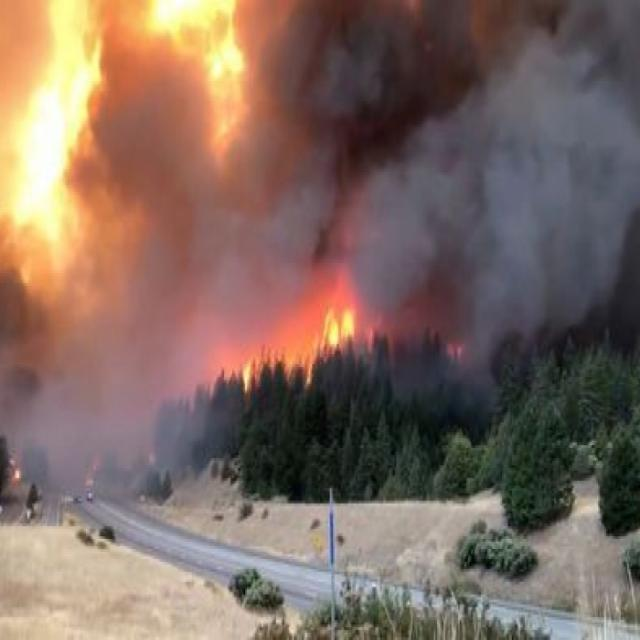Fire: (219, 273, 356, 388)
